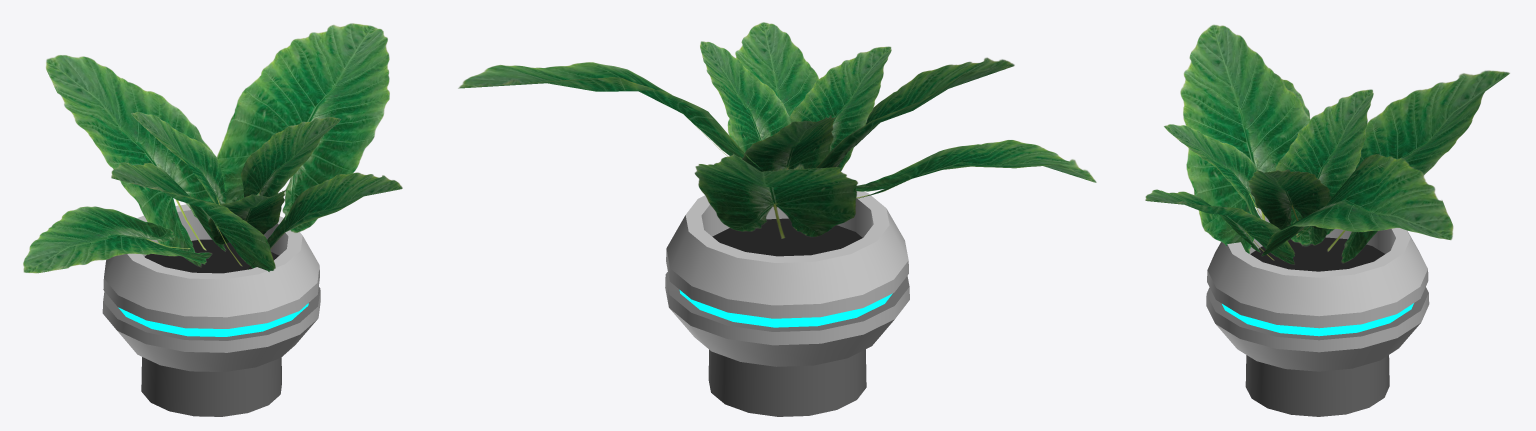
File: planta.glb
3 views of the same model, side by side, from view 1: azimuth 30°, elevation 25°; view 2: azimuth 150°, elevation 25°; view 3: azimuth 270°, elevation 25° (orthographic). The views are drawn at different scales.
Parts seen in each view (by area): view 1: planta.maceta, alfa_planta.pasto_2, alfa_planta.pasto_1; view 2: planta.maceta, alfa_planta.pasto_1, alfa_planta.pasto_2; view 3: planta.maceta, alfa_planta.pasto_1, alfa_planta.pasto_2.
Boxes of the visible parts, <box> form: planta.maceta: <box>102,204,320,416</box>; alfa_planta.pasto_2: <box>208,23,402,269</box>; alfa_planta.pasto_1: <box>23,55,275,273</box>; planta.maceta: <box>665,191,909,416</box>; alfa_planta.pasto_1: <box>694,57,1096,238</box>; alfa_planta.pasto_2: <box>458,22,891,171</box>; planta.maceta: <box>1206,208,1429,416</box>; alfa_planta.pasto_1: <box>1180,24,1509,263</box>; alfa_planta.pasto_2: <box>1145,124,1453,264</box>.
Size of the model in its own units: 0.8498 by 0.4873 by 0.5803.
5 materials, 1 textured.
